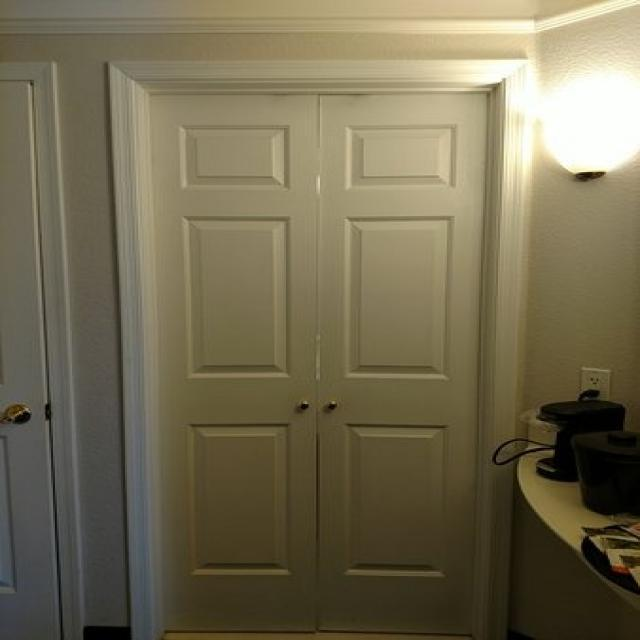Door: (114, 64, 496, 639)
